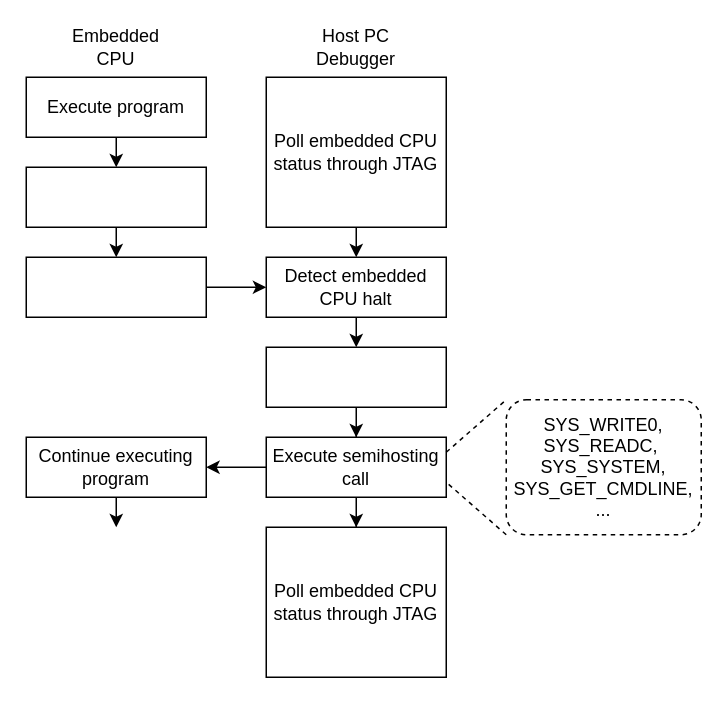
Image size: 728x704. Some labels were removed from this diagram. Here are the shapes that lost their labels. From the top down, the centre of each, then its label:
At point 115,196: "Execute EBREAK instruction".
At point 115,286: "Halt".
At point 355,376: "Detect magic sequence".
